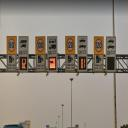speed_limit_100: (36, 38, 45, 53)
speed_limit_120: (94, 38, 103, 53), (66, 37, 74, 53)
speed_limit_80: (7, 36, 16, 52)
